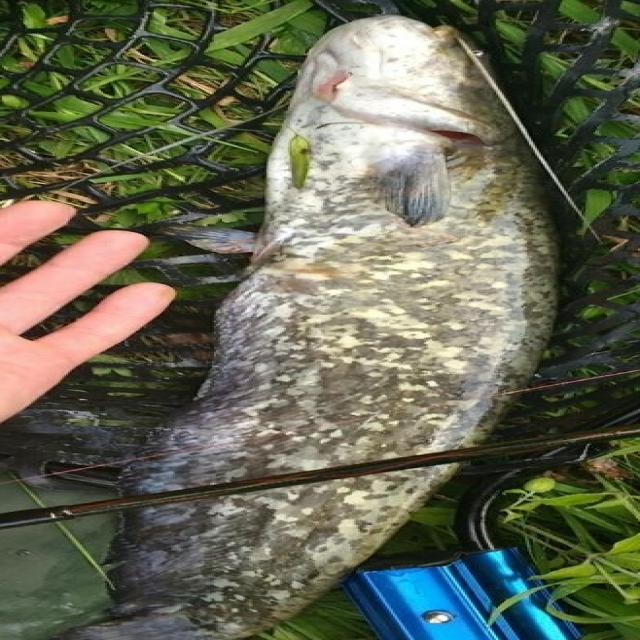Catfish: (71, 14, 596, 636)
